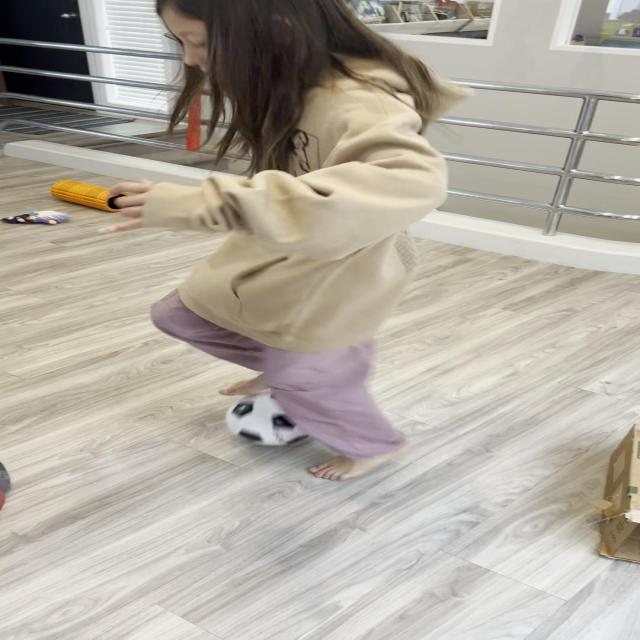Soccer Ball: (226, 391, 320, 448)
